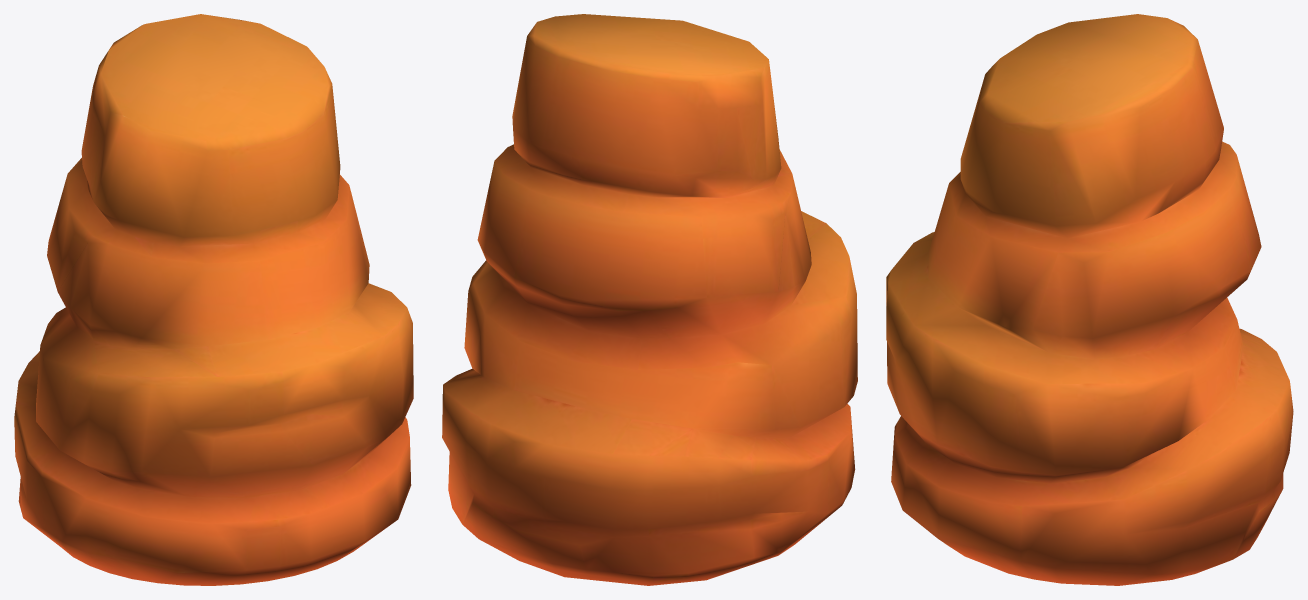
Rendered from rock_spire_lo.glb.
The picture shows the model from 3 angles, left to right: view 1: azimuth 30°, elevation 25°; view 2: azimuth 150°, elevation 25°; view 3: azimuth 270°, elevation 25°; orthographic projection. The views are drawn at different scales.
Visible parts, largest first — view 1: tripo_node_48f55379-27e1-4ff4-a868-2e246746be8d; view 2: tripo_node_48f55379-27e1-4ff4-a868-2e246746be8d; view 3: tripo_node_48f55379-27e1-4ff4-a868-2e246746be8d.
Boxes of the visible parts, x1,y1,x2,y2 form: tripo_node_48f55379-27e1-4ff4-a868-2e246746be8d: [14, 14, 413, 585]; tripo_node_48f55379-27e1-4ff4-a868-2e246746be8d: [442, 14, 857, 585]; tripo_node_48f55379-27e1-4ff4-a868-2e246746be8d: [886, 14, 1293, 585].
Size of the model in its own units: 3.14 by 4.15 by 3.2.
Materials: 1 (1 with a texture image).
